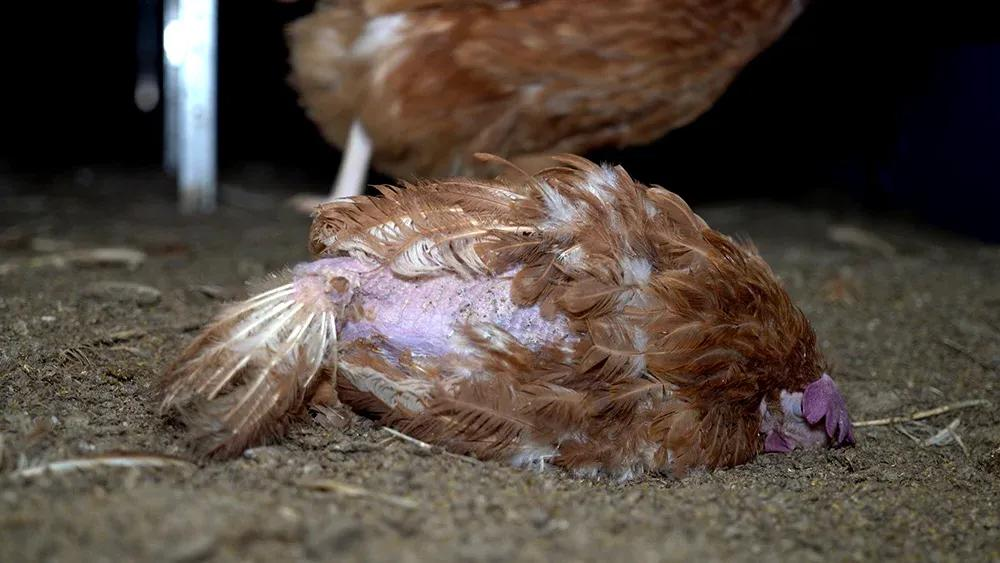AbNormal: (161, 143, 869, 477)
